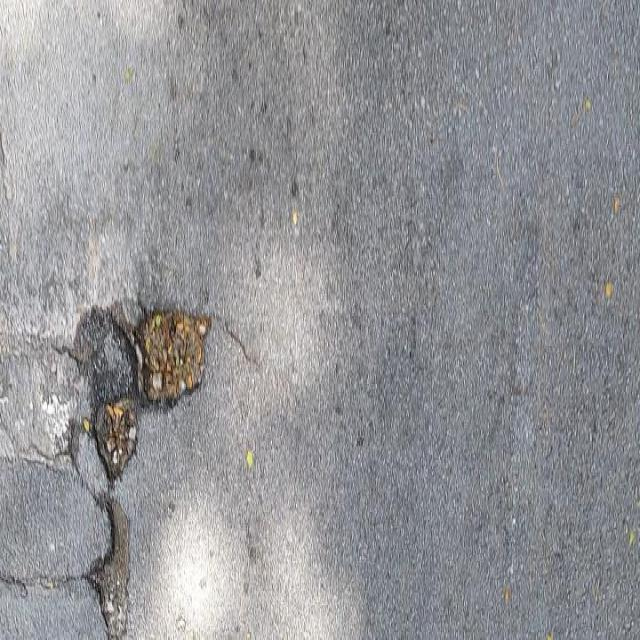potholes: (2, 250, 259, 640)
